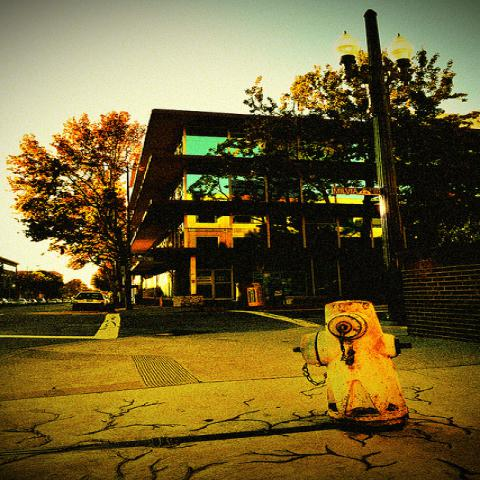car: (71, 292, 110, 310), (0, 298, 14, 305), (18, 298, 29, 306), (38, 298, 48, 304), (26, 299, 38, 303)
